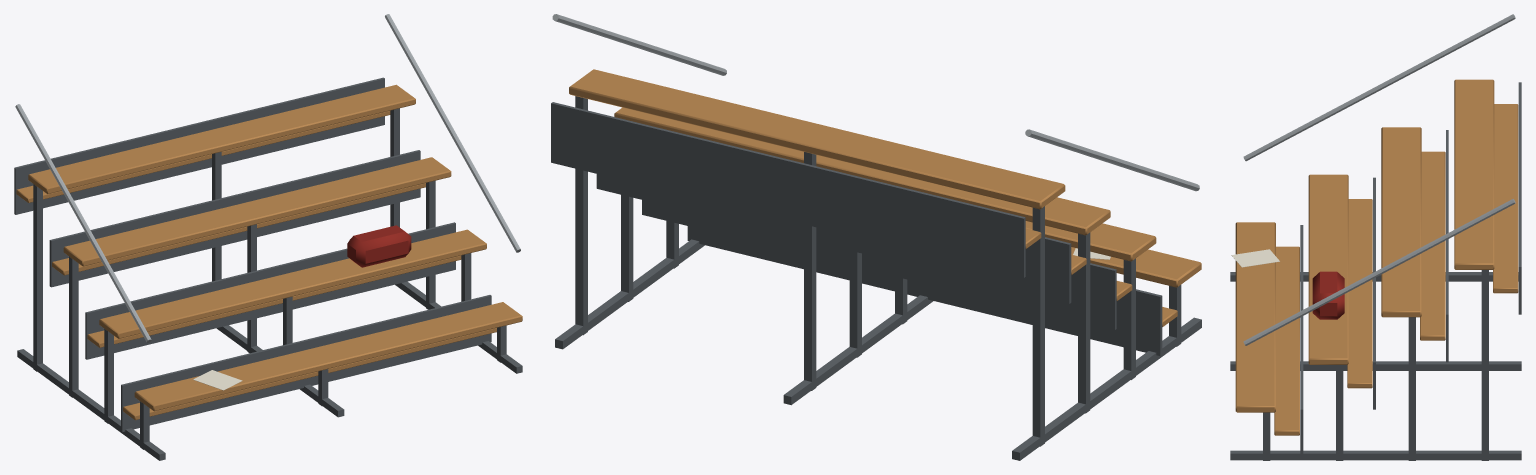
File: bleachers.glb
3 views of the same model, side by side, from view 1: azimuth 30°, elevation 25°; view 2: azimuth 150°, elevation 25°; view 3: azimuth 270°, elevation 25° (orthographic). The views are drawn at different scales.
Parts seen in each view (by area): view 1: Bleachers; view 2: Bleachers; view 3: Bleachers.
Part boxes in pixels (box(x1,y1,x2,y2)): Bleachers: box(14, 14, 522, 460); Bleachers: box(551, 14, 1201, 460); Bleachers: box(1230, 14, 1521, 460).
Size of the model in its own units: 3.04 by 2 by 2.
